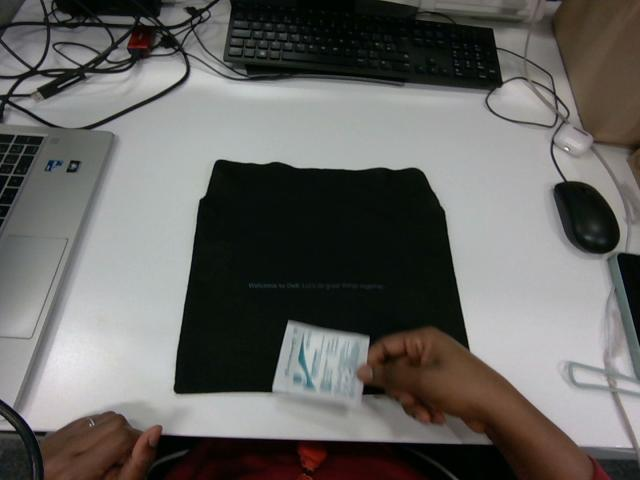gauze: (273, 320, 367, 404)
